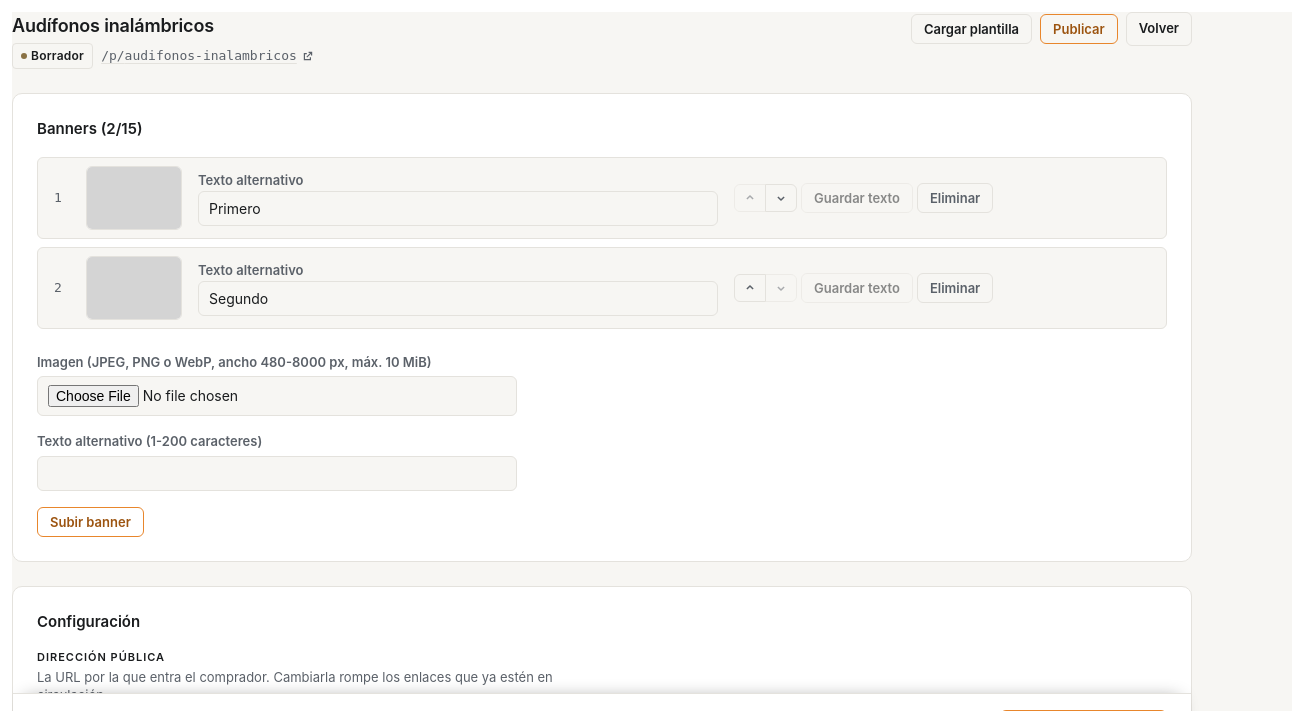
Test: LandingEditorPage › publishes a draft landing and reflects the stored status
Check: the heading "Banners (2/15)" is shown, box x1=37 y1=119 x2=142 y2=138
What coordinates should you click on to do the following:
click the button "Publicar"
I would click on:
 (1079, 29)
Its box is x1=1040 y1=14 x2=1118 y2=44.
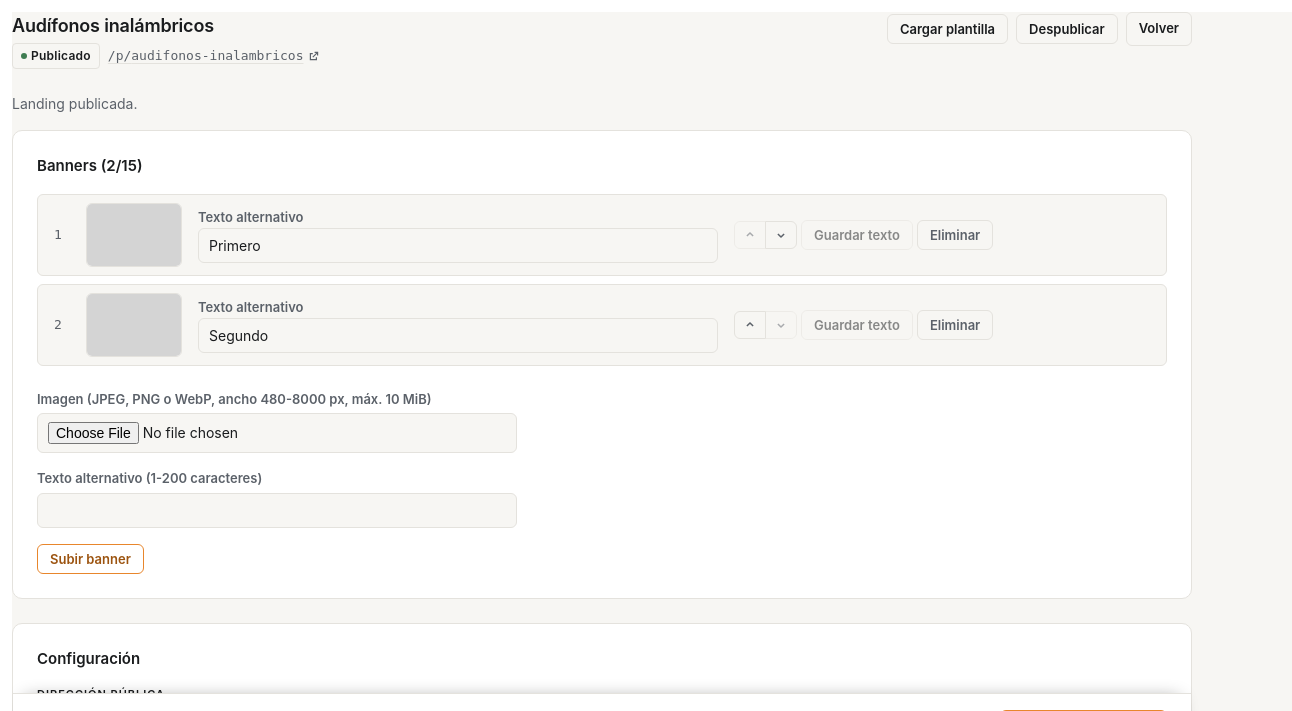
Check: the button "Despublicar" is shown, box x1=1016 y1=14 x2=1118 y2=44
